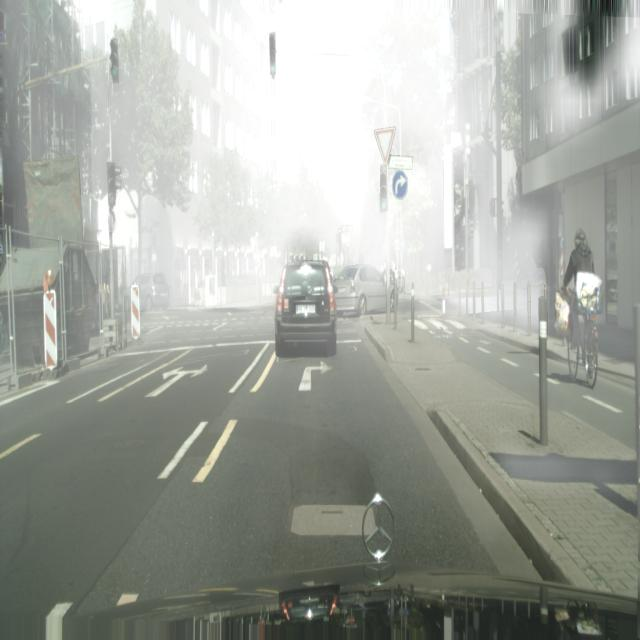car: (562, 230, 600, 389)
truck: (274, 261, 337, 358), (332, 264, 398, 317), (133, 272, 171, 312)
